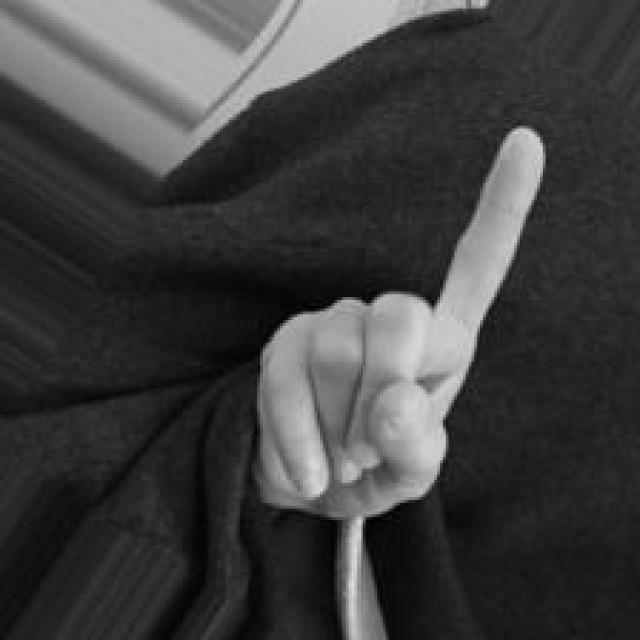I: (251, 116, 548, 522)
